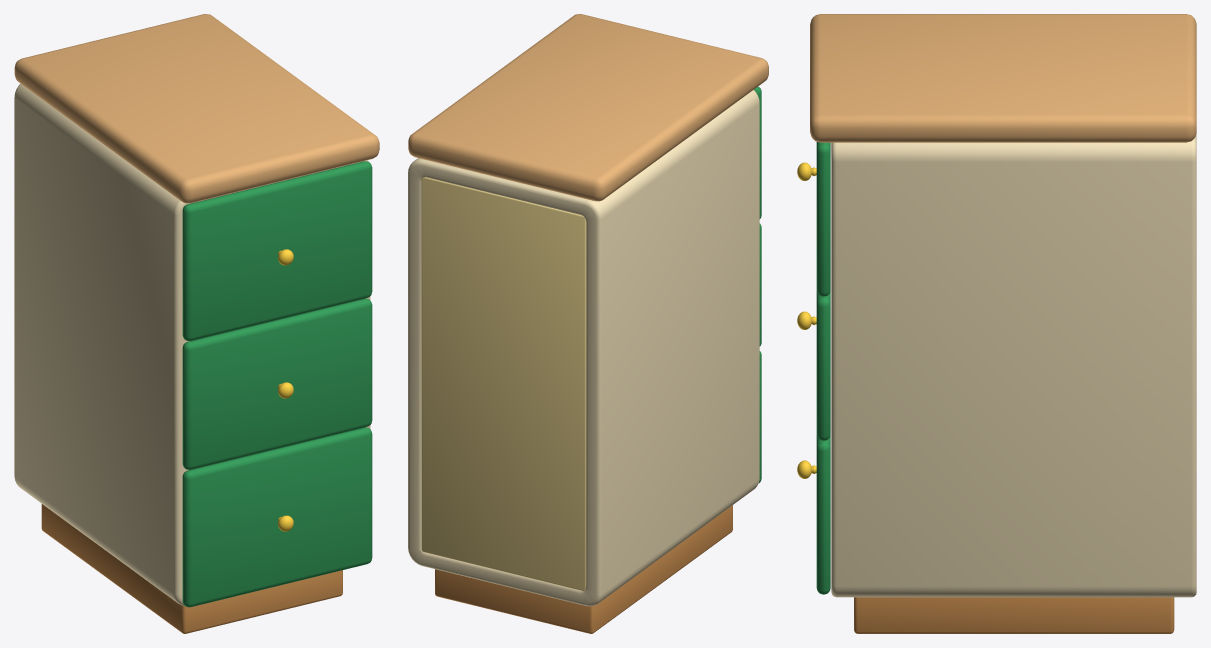
The model's file is gaveteiro_cozinha_3gavetas_creme.glb.
3 views of the same model, side by side, from view 1: azimuth 30°, elevation 25°; view 2: azimuth 150°, elevation 25°; view 3: azimuth 270°, elevation 25° (orthographic). The views are drawn at different scales.
Visible parts, largest first — view 1: gaveteiro_cozinha_3gavetas_creme, gaveta_1, gaveta_3, gaveta_2; view 2: gaveteiro_cozinha_3gavetas_creme; view 3: gaveteiro_cozinha_3gavetas_creme, gaveta_3, gaveta_1, gaveta_2.
Part boxes in pixels (left/top/right/bottom): gaveteiro_cozinha_3gavetas_creme: left=14, top=14, right=379, bottom=633; gaveta_1: left=182, top=161, right=372, bottom=340; gaveta_3: left=182, top=427, right=372, bottom=607; gaveta_2: left=182, top=298, right=372, bottom=469; gaveteiro_cozinha_3gavetas_creme: left=408, top=14, right=768, bottom=633; gaveteiro_cozinha_3gavetas_creme: left=810, top=14, right=1196, bottom=633; gaveta_3: left=797, top=435, right=830, bottom=594; gaveta_1: left=797, top=142, right=830, bottom=296; gaveta_2: left=797, top=291, right=830, bottom=440.
Bounding box in the file's own units: 0.398 × 0.9 × 0.619.
Materials: 1 (1 with a texture image).
